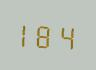eight: (38, 19, 56, 50)
four: (57, 20, 75, 51)
one: (18, 18, 36, 49)
